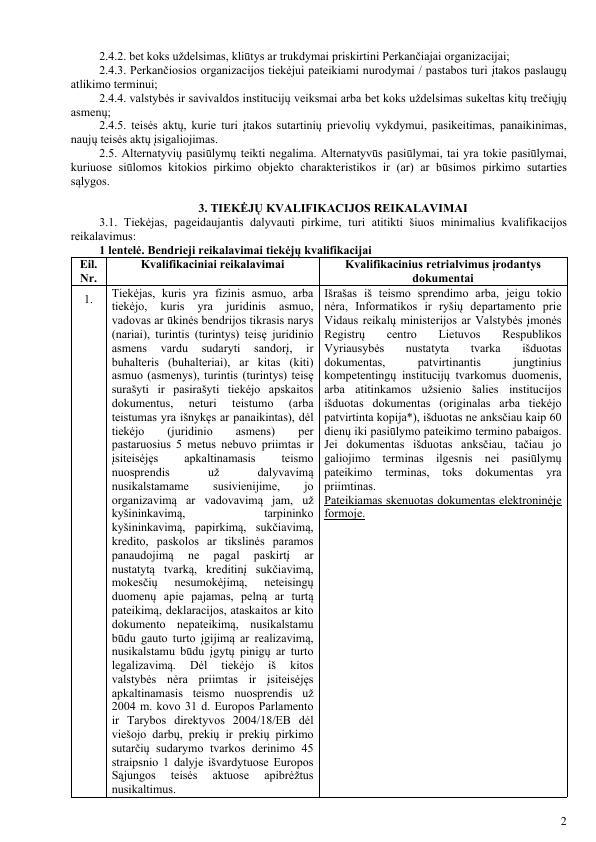table: (69, 257, 568, 798)
text: (68, 47, 573, 190), (69, 200, 571, 258)
